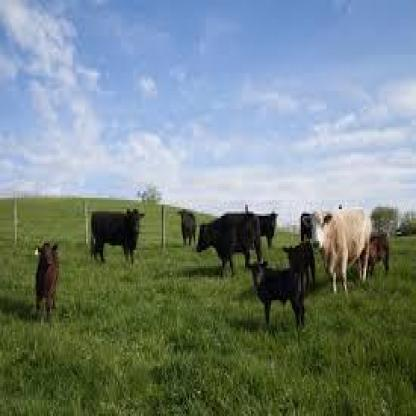cow: (303, 206, 373, 294), (198, 211, 262, 280), (246, 259, 308, 330), (92, 209, 145, 268), (33, 240, 59, 326), (283, 243, 316, 289), (365, 231, 391, 278), (177, 207, 197, 248)
